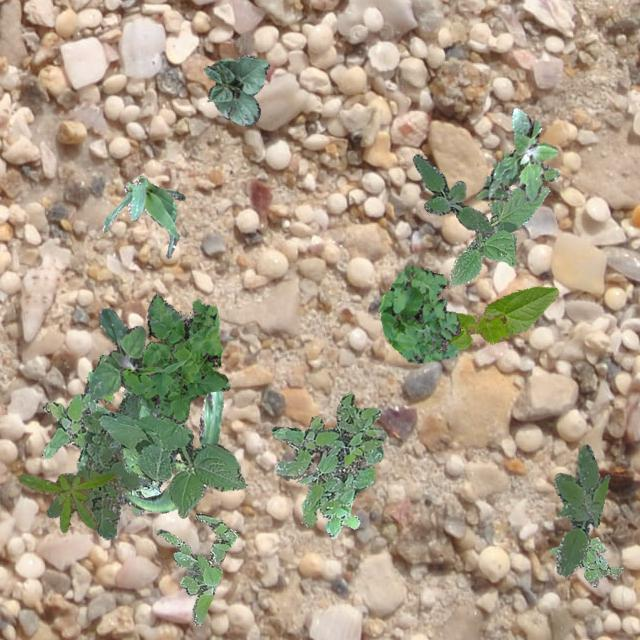crop: (115, 390, 222, 512), (448, 186, 548, 284), (447, 286, 558, 350), (102, 174, 184, 258), (202, 54, 268, 124)
weed: (42, 354, 162, 514), (270, 390, 386, 538), (97, 412, 245, 516), (122, 292, 230, 422), (46, 392, 140, 538), (156, 512, 237, 626), (86, 306, 162, 416), (378, 264, 460, 362), (476, 106, 558, 200), (552, 444, 608, 576), (412, 153, 492, 234), (17, 472, 116, 532), (550, 536, 622, 586)
